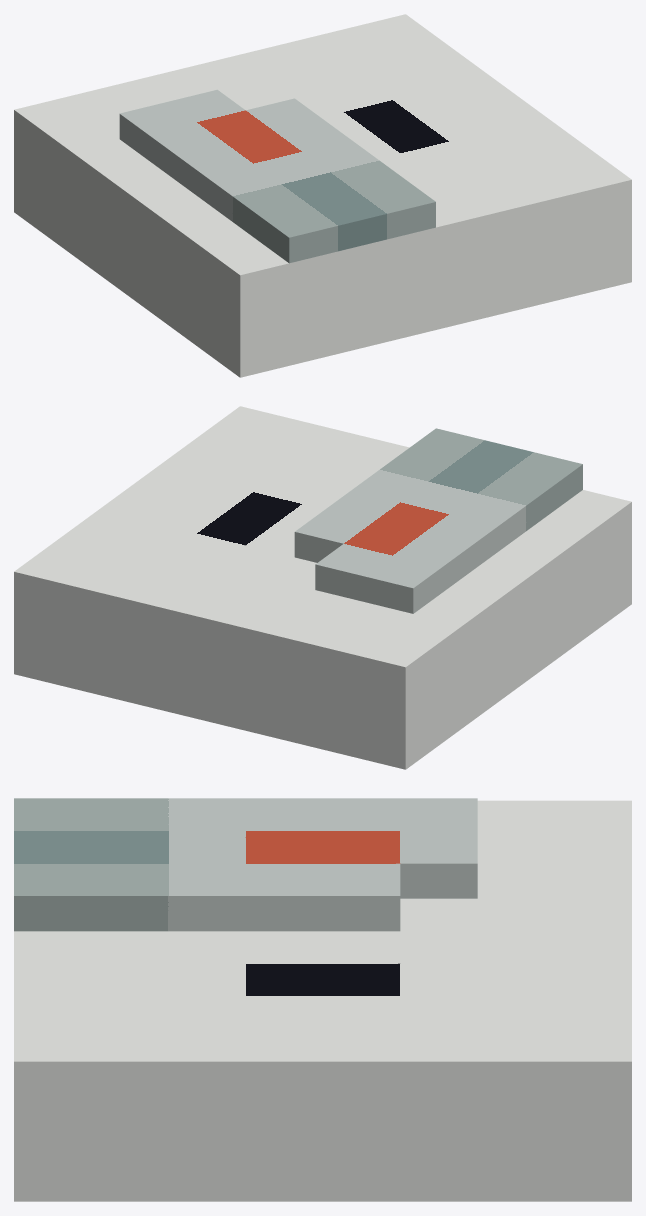
File: vilzio.fbx
3 views of the same model, one above another, from view 1: azimuth 30°, elevation 25°; view 2: azimuth 150°, elevation 25°; view 3: azimuth 270°, elevation 25° (orthographic). The views are drawn at different scales.
Visible parts, largest first — view 1: face, eye; view 2: face, eye; view 3: face, eye.
Boxes of the visible parts, <box> form: face: <box>14,14,631,377</box>; eye: <box>119,89,435,263</box>; face: <box>14,406,631,769</box>; eye: <box>294,428,582,613</box>; face: <box>14,800,631,1201</box>; eye: <box>14,798,477,931</box>.
Bounding box in the file's own units: 50 × 15.62 × 50.
2 materials, 2 textured.
